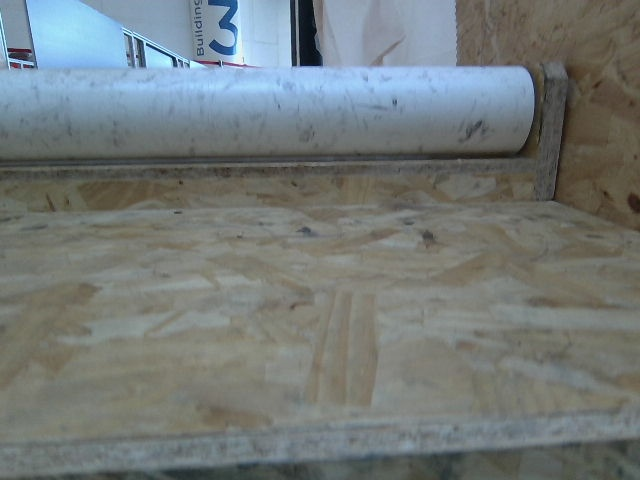curtain: (301, 0, 397, 58)
